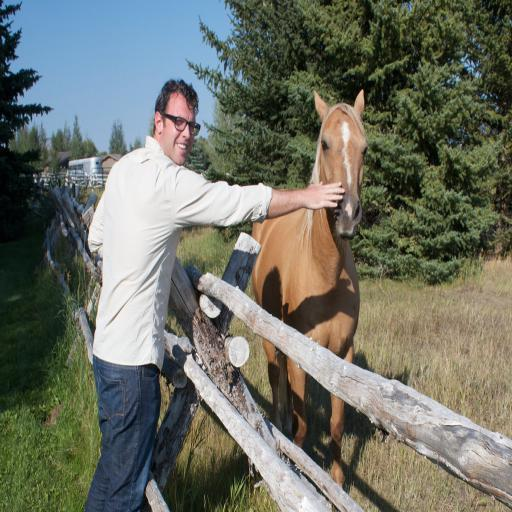horse: (250, 90, 368, 511)
